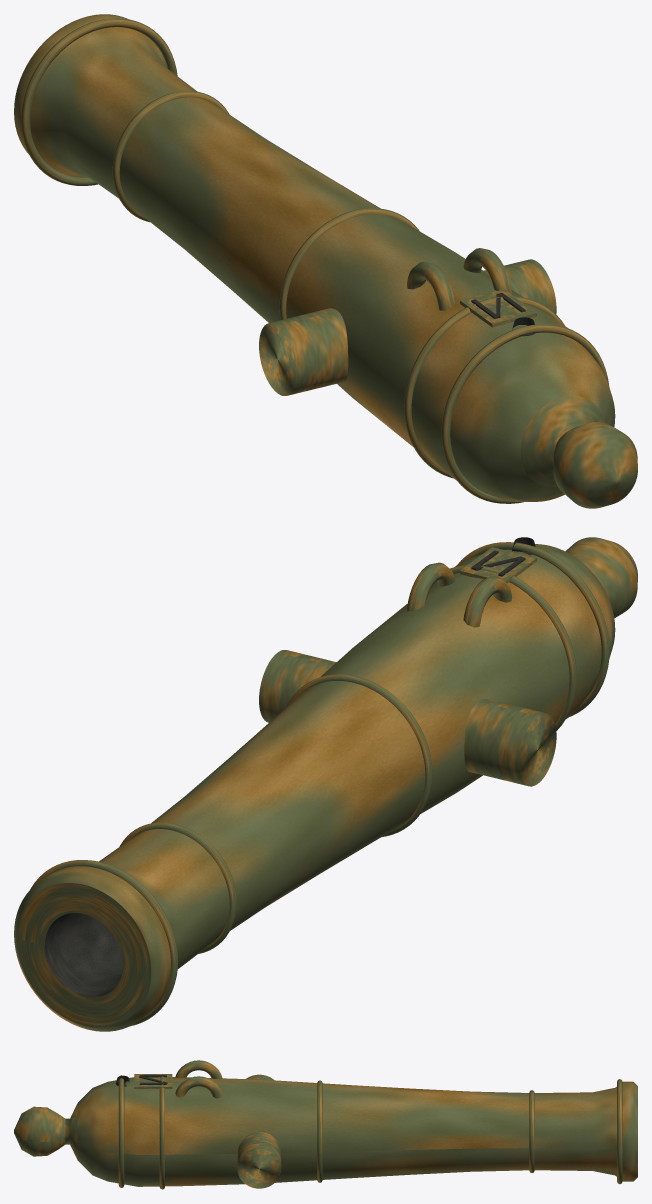
Rendered from barrel.obj.
3 renders of one model, top to bottom at view 1: azimuth 30°, elevation 25°; view 2: azimuth 150°, elevation 25°; view 3: azimuth 270°, elevation 25°, orthographic. The views are drawn at different scales.
Visible parts, largest first — view 1: Bronze_tapered_tube, Trunnion_-1, Cascabel_knob, Closed_breech, Cast_reinforcement_-23.8, Cast_reinforcement_9.1, Cast_reinforcement_6.4, Trunnion_1, Cast_reinforcement_-18, Cast_reinforcement_-4, Foundry_insignia_tablet, Dolphin_lift_arch_-1 (+1 smaller); view 2: Bronze_tapered_tube, Muzzle_annular_lip, Trunnion_-1, Dark_recessed_bore, Cascabel_knob, Trunnion_1, Cast_reinforcement_9.1, Cast_reinforcement_-4, Cast_reinforcement_-23.8, Cast_reinforcement_6.4, Cast_reinforcement_-18, Dolphin_lift_arch_-1 (+2 smaller); view 3: Bronze_tapered_tube, Trunnion_1, Cascabel_knob, Cast_reinforcement_9.1, Cast_reinforcement_6.4, Cast_reinforcement_-23.8, Cast_reinforcement_-4, Dolphin_lift_arch_1, Dolphin_lift_arch_-1, Cast_reinforcement_-18, Closed_breech, Foundry_insignia_tablet.
Part boxes in pixels (bbox=[...]): Bronze_tapered_tube: bbox=[14, 14, 615, 501]; Trunnion_-1: bbox=[259, 308, 348, 395]; Cascabel_knob: bbox=[553, 422, 637, 508]; Closed_breech: bbox=[520, 395, 604, 487]; Cast_reinforcement_-23.8: bbox=[21, 18, 177, 185]; Cast_reinforcement_9.1: bbox=[441, 324, 608, 503]; Cast_reinforcement_6.4: bbox=[404, 296, 564, 478]; Trunnion_1: bbox=[484, 259, 556, 313]; Cast_reinforcement_-18: bbox=[112, 91, 229, 222]; Cast_reinforcement_-4: bbox=[279, 208, 419, 319]; Foundry_insignia_tablet: bbox=[460, 289, 536, 327]; Dolphin_lift_arch_-1: bbox=[407, 261, 455, 310]; Bronze_tapered_tube: bbox=[14, 544, 615, 1031]; Muzzle_annular_lip: bbox=[17, 883, 151, 1027]; Trunnion_-1: bbox=[464, 699, 556, 786]; Dark_recessed_bore: bbox=[45, 913, 123, 997]; Cascabel_knob: bbox=[565, 537, 637, 618]; Trunnion_1: bbox=[259, 650, 336, 722]; Cast_reinforcement_9.1: bbox=[457, 542, 609, 716]; Cast_reinforcement_-4: bbox=[286, 674, 432, 836]; Cast_reinforcement_-23.8: bbox=[30, 860, 177, 1026]; Cast_reinforcement_6.4: bbox=[450, 565, 576, 730]; Cast_reinforcement_-18: bbox=[119, 822, 236, 953]; Dolphin_lift_arch_-1: bbox=[463, 576, 512, 627]; Bronze_tapered_tube: bbox=[77, 1077, 637, 1186]; Trunnion_1: bbox=[237, 1131, 281, 1188]; Cascabel_knob: bbox=[14, 1106, 65, 1156]; Cast_reinforcement_9.1: bbox=[118, 1075, 124, 1187]; Cast_reinforcement_6.4: bbox=[159, 1076, 164, 1189]; Cast_reinforcement_-23.8: bbox=[617, 1079, 622, 1184]; Cast_reinforcement_-4: bbox=[317, 1080, 322, 1182]; Dolphin_lift_arch_1: bbox=[175, 1076, 222, 1098]; Dolphin_lift_arch_-1: bbox=[175, 1060, 222, 1078]; Cast_reinforcement_-18: bbox=[529, 1090, 534, 1172]; Closed_breech: bbox=[65, 1103, 77, 1159]; Foundry_insignia_tablet: bbox=[134, 1074, 172, 1088].
Bounding box in the file's own units: 0.725 × 0.5269 × 2.58.
